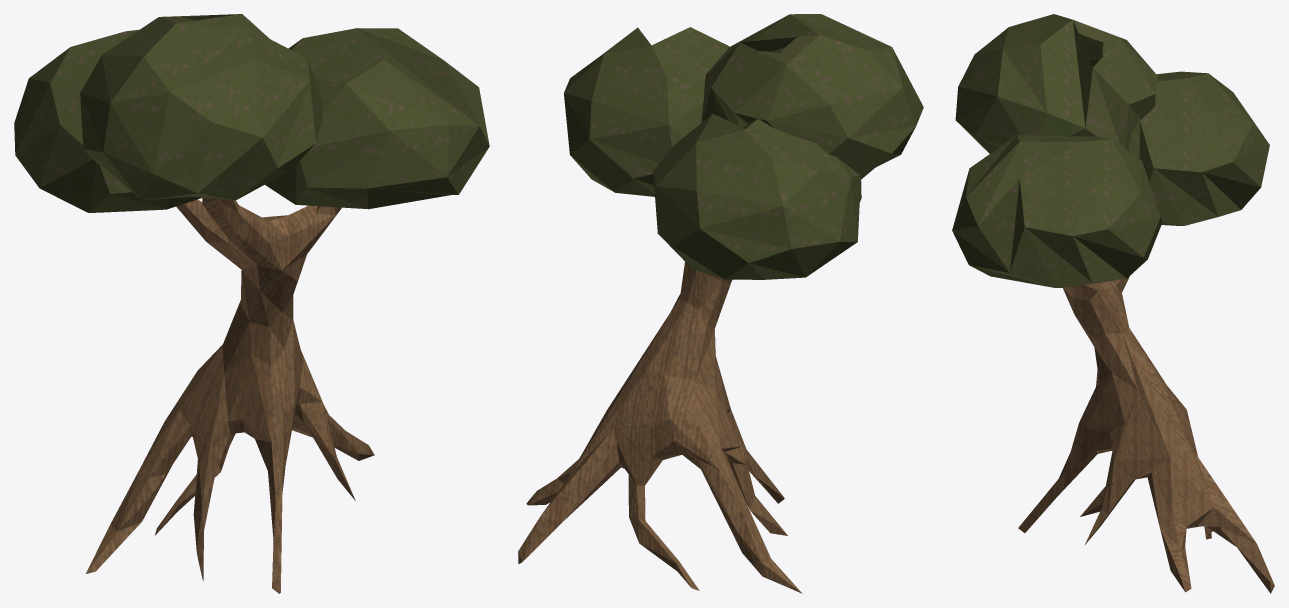
Rendered from Arvore_C_Escura.fbx.
3 renders of one model, left to right at view 1: azimuth 30°, elevation 25°; view 2: azimuth 150°, elevation 25°; view 3: azimuth 270°, elevation 25°, orthographic. The views are drawn at different scales.
Parts seen in each view (by area): view 1: Arvore_C_Topo, Arvore_C; view 2: Arvore_C_Topo, Arvore_C; view 3: Arvore_C_Topo, Arvore_C.
Boxes of the visible parts, x1,y1,x2,y2 form: Arvore_C_Topo: (14, 14, 489, 212); Arvore_C: (86, 197, 374, 593); Arvore_C_Topo: (564, 14, 923, 279); Arvore_C: (518, 262, 802, 593); Arvore_C_Topo: (952, 14, 1269, 287); Arvore_C: (1018, 276, 1274, 593).
Bounding box in the file's own units: 483 × 723 × 426.
2 materials, 2 textured.
